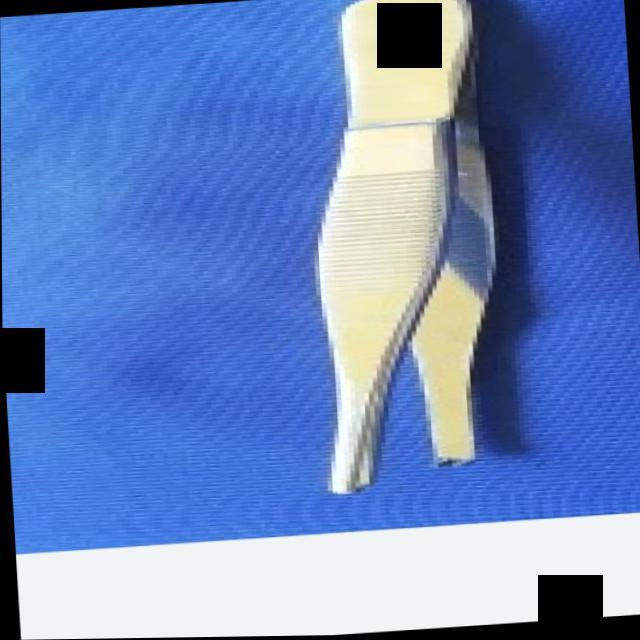Disscting Forceps -tooth-: (238, 0, 531, 502)
